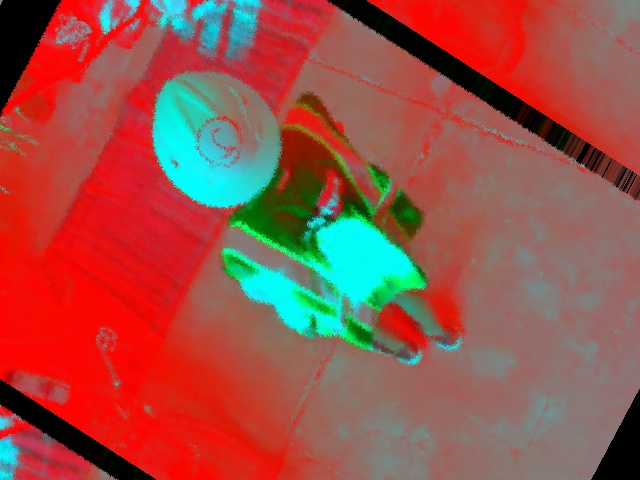two: (188, 107, 249, 173)
